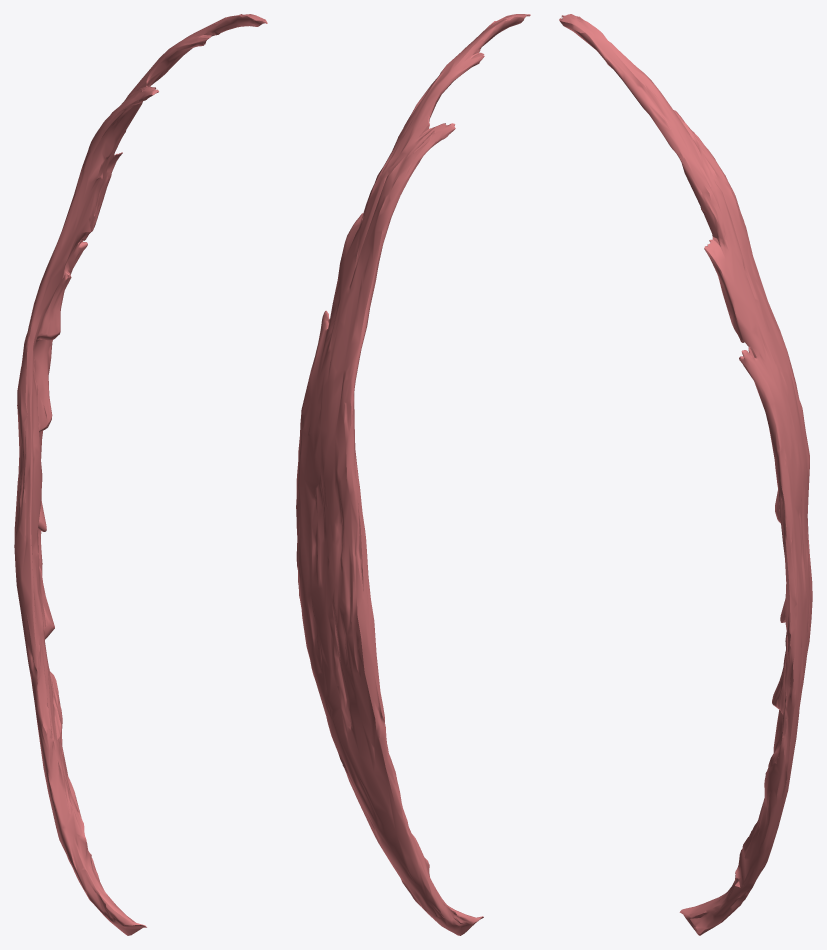
3 renders of one model, left to right at view 1: azimuth 90°, elevation 25°; view 2: azimuth 150°, elevation 25°; view 3: azimuth 270°, elevation 25°, orthographic. The views are drawn at different scales.
Visible parts, largest first — view 1: FJ1528M; view 2: FJ1528M; view 3: FJ1528M.
Boxes of the visible parts, box(x1,y1,x2,y2) form: FJ1528M: box(14, 14, 267, 935); FJ1528M: box(296, 14, 530, 935); FJ1528M: box(559, 14, 812, 935).
Size of the model in its own units: 0.0499 by 0.3028 by 0.0757.
